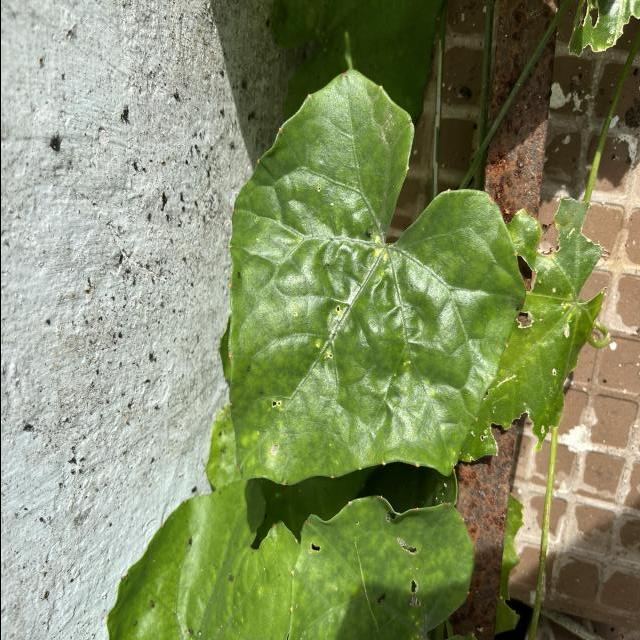Coccinia grandis: (200, 62, 528, 498)
